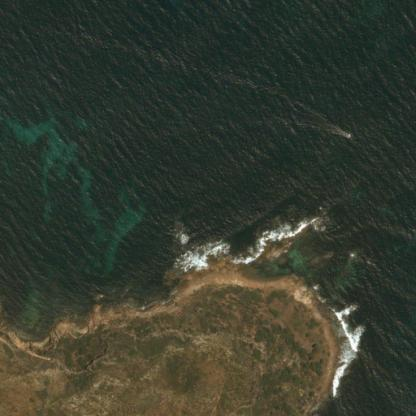ship: (335, 123, 355, 143)
